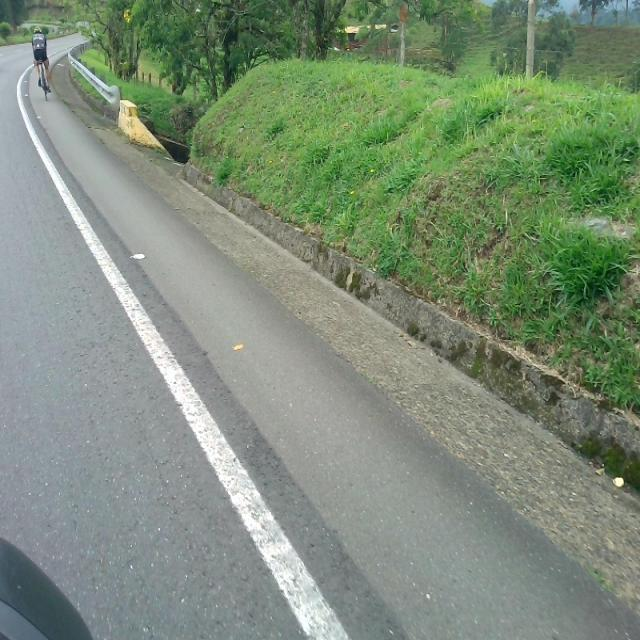DITCH: (1, 44, 638, 638), (16, 35, 638, 637)
